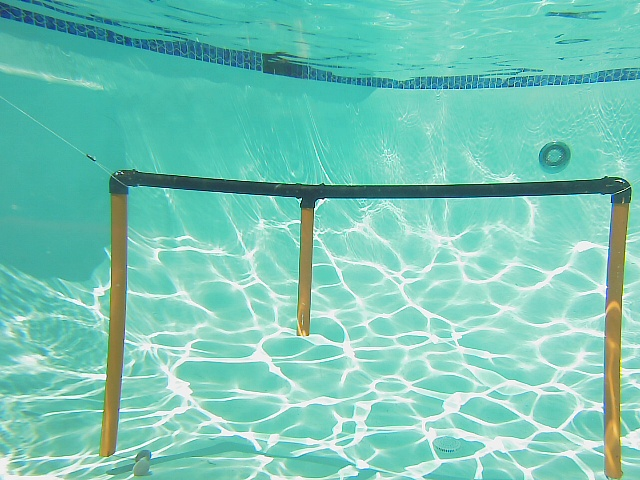Gate: (95, 190, 132, 458), (599, 199, 632, 480), (294, 202, 318, 337)
